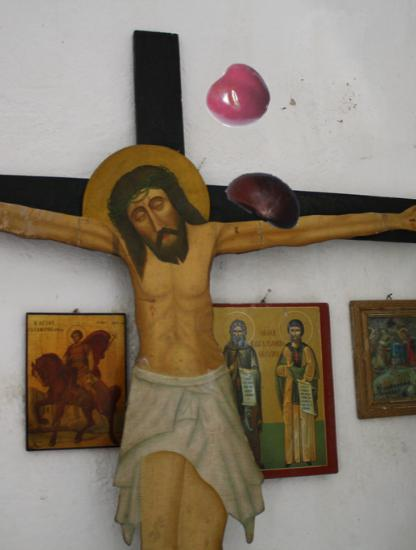Cherry: (206, 63, 272, 129)
Chestnut: (227, 157, 308, 238)
